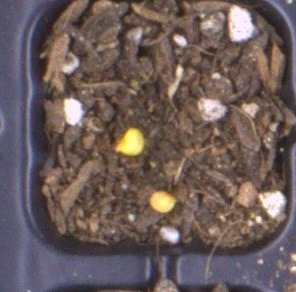chilli seed: (114, 127, 145, 156), (149, 190, 178, 213)
